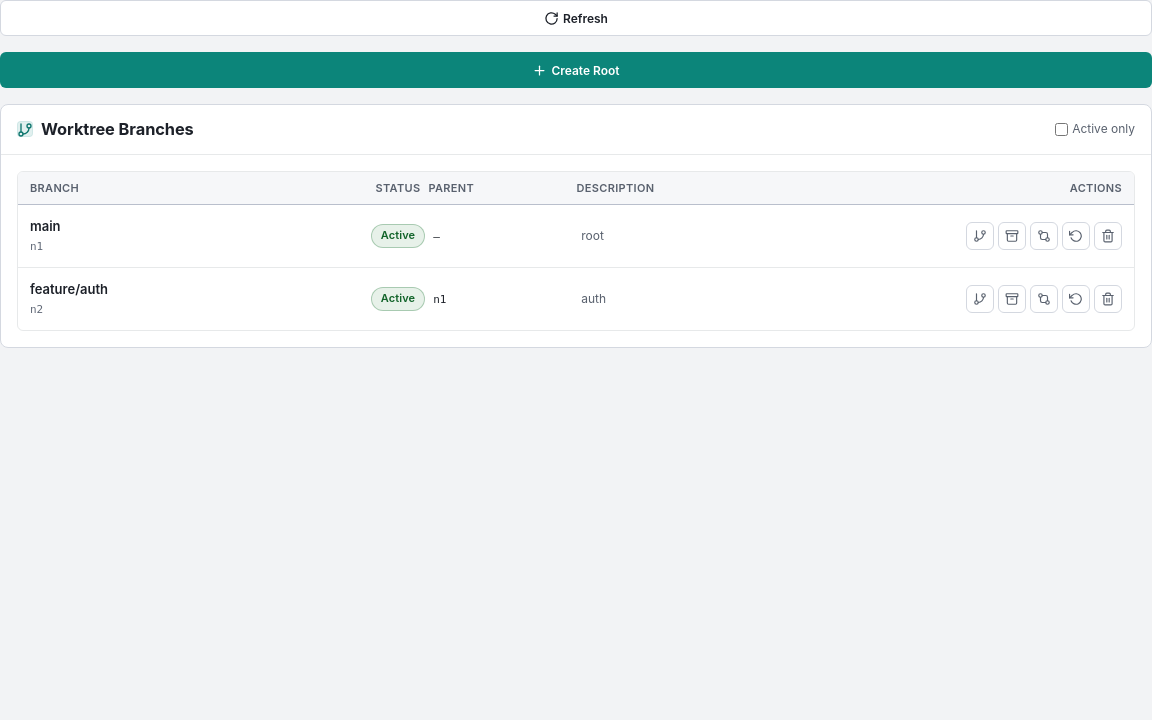
it: Worktrees.vue › reports merge conflicts instead of looking like a clean merge
Expected: the row with class "wt-table__row" showing "feature/auth n2 Active n1 auth" is shown, [30,281,1122,316]
Click the button with class "icon-btn" in the row of "feature/auth" at {"x": 1044, "y": 299}, box [1030,285,1058,313]
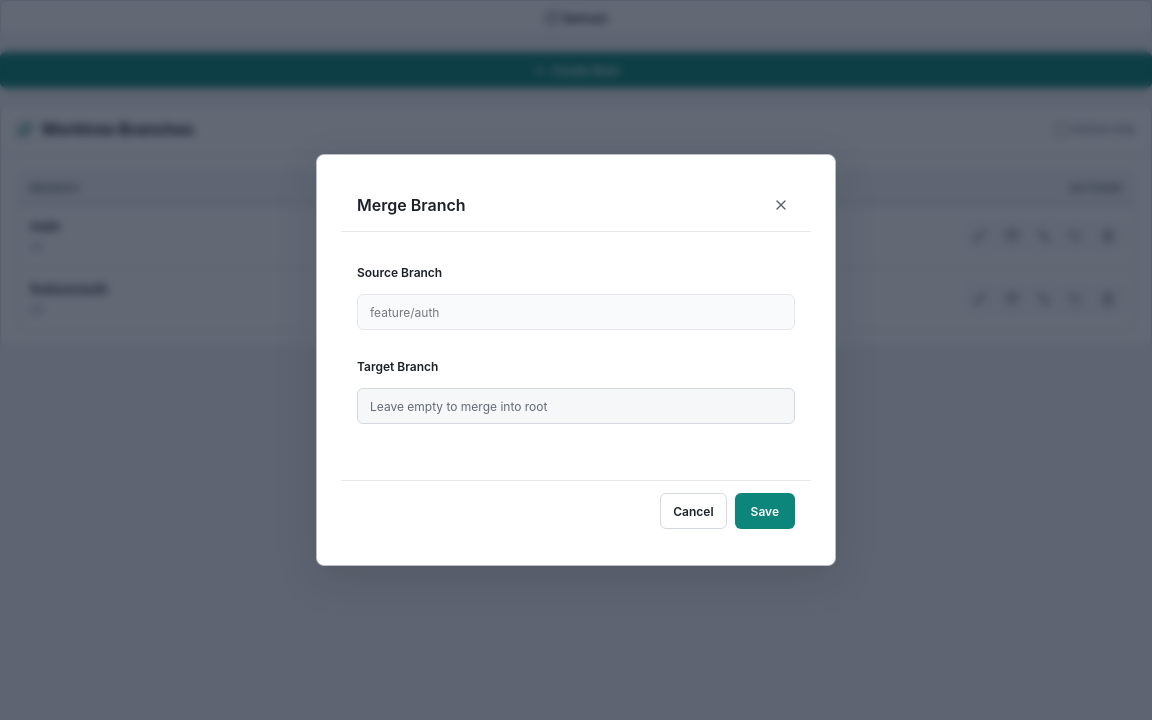
Now the dialog with class "modal-overlay" is shown
Click the button "Save" at {"x": 765, "y": 511}, box [735,493,795,529]
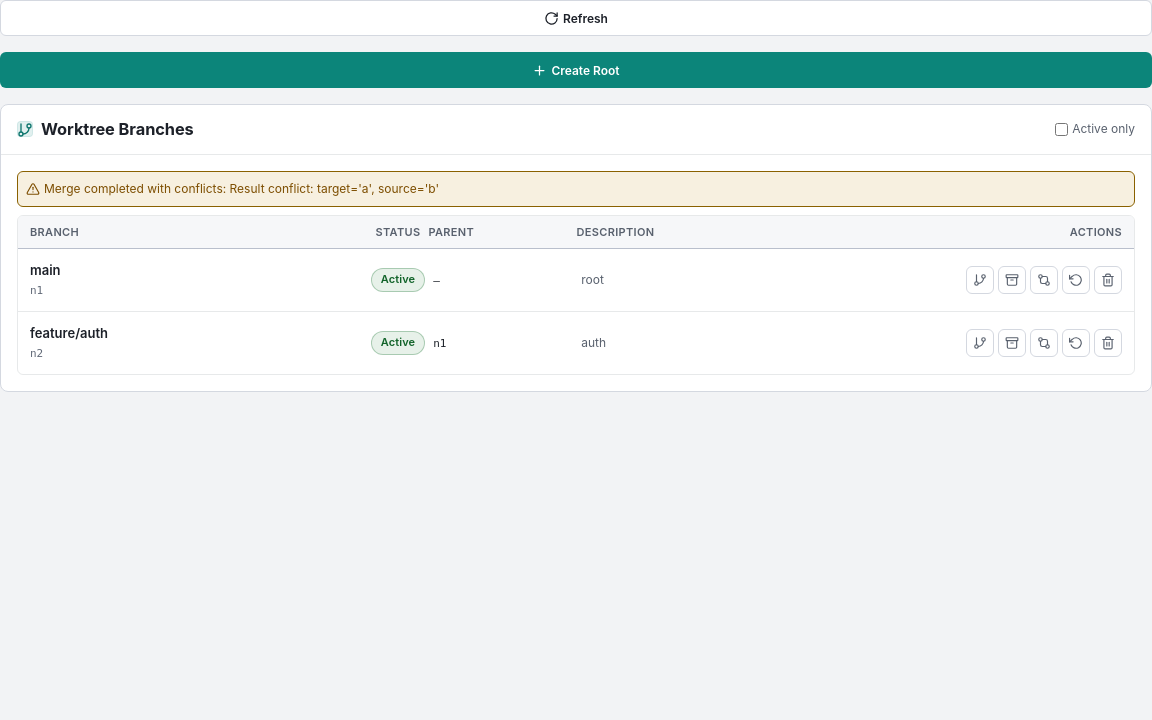
Now the message "Merge completed with conflicts: Result conflict: target='a', source='b'" is shown, box [17,171,1135,207]
Now the text "Merge completed with conflicts" is shown, box [44,181,439,196]
Now the text "Result conflict" is shown, box [44,181,439,196]
